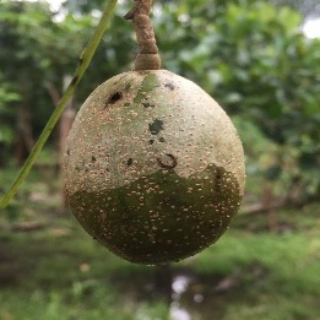coc: (64, 66, 244, 267)
